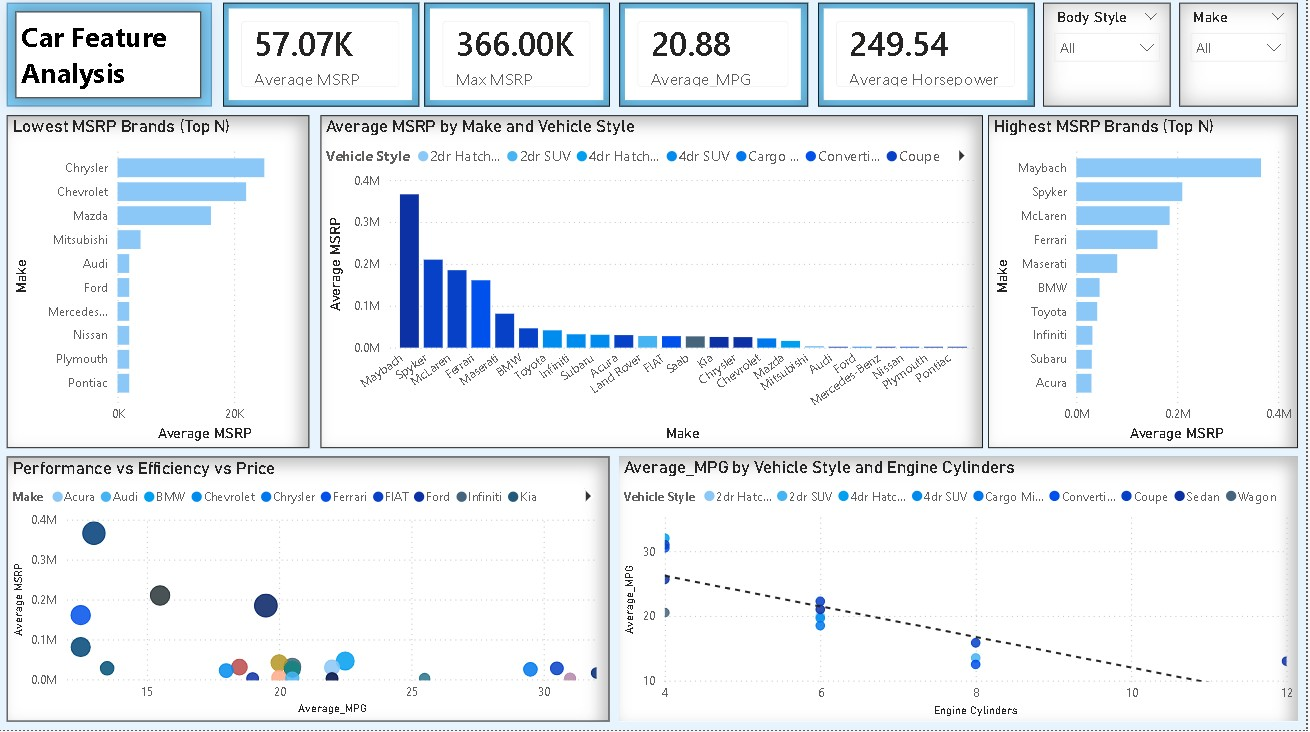

Layout of this report page (visuals, bound fields, positions):
{"tool":"powerbi","page":{"name":"Impact of Car Features","canvas":[1280,720],"ordinal":0},"visuals":[{"type":"slicer","fields":{"Values":["Car_data.Vehicle Style"]},"box":[1022.3,9,125.1,101.4],"z":0},{"type":"slicer","fields":{"Values":["Car_data.Make"]},"box":[1155.3,9,116.1,101.4],"z":1000},{"type":"columnChart","fields":{"Category":["Car_data.Make"],"Y":["Car_data.Average MSRP"],"Series":["Car_data.Vehicle Style"]},"box":[315.5,118.6,648.1,325.3],"z":2000},{"type":"clusteredBarChart","title":"Highest MSRP Brands (Top N)","fields":{"Y":["Car_data.Average MSRP"],"Category":["Car_data.Make"]},"box":[968.5,118.6,303.3,325.3],"z":3000},{"type":"clusteredBarChart","title":"Lowest MSRP Brands (Top N)","fields":{"Y":["Car_data.Average MSRP"],"Category":["Car_data.Make"]},"box":[8.6,118.6,295.9,325.3],"z":4000},{"type":"scatterChart","fields":{"X":["Car_data.Engine Cylinders"],"Y":["Car_data.Average_MPG"],"Series":["Car_data.Vehicle Style"]},"box":[607.7,452.4,664,259.2],"z":5000},{"type":"scatterChart","title":"Performance vs Efficiency vs Price","fields":{"X":["Car_data.Average_MPG"],"Y":["Car_data.Average MSRP"],"Series":["Car_data.Make"],"Size":["Sum(Car_data.Engine HP)"]},"box":[8.6,452.4,589.4,259.2],"z":6000},{"type":"cardVisual","fields":{"Data":["Car_data.Average MSRP"]},"box":[219.8,9,191.6,101.4],"z":7000},{"type":"cardVisual","fields":{"Data":["Car_data.Max MSRP"]},"box":[417,9,181.5,101.4],"z":8000},{"type":"cardVisual","fields":{"Data":["Car_data.Average_MPG"]},"box":[607.5,9,184.8,101.4],"z":9000},{"type":"cardVisual","fields":{"Data":["Car_data.Average Horsepower"]},"box":[802.5,9,211.9,101.4],"z":10000},{"type":"shape","box":[9,9,200.6,101.4],"z":11000},{"type":"textbox","box":[16.9,16.9,181.5,84.5],"z":12000}]}

Visuals, with their boxes in screenshot pixels (x1, y1, x2, y2), scaled from the page's 1280x720 canvas onto the 1310x732 screenshot:
slicer - Car_data.Vehicle Style: pyautogui.locateOnScreen(1046, 9, 1174, 112)
slicer - Car_data.Make: pyautogui.locateOnScreen(1182, 9, 1301, 112)
columnChart - Car_data.Make x Car_data.Average MSRP: pyautogui.locateOnScreen(323, 121, 986, 451)
"Highest MSRP Brands (Top N)" clusteredBarChart: pyautogui.locateOnScreen(991, 121, 1302, 451)
"Lowest MSRP Brands (Top N)" clusteredBarChart: pyautogui.locateOnScreen(9, 121, 312, 451)
scatterChart - Car_data.Engine Cylinders x Car_data.Average_MPG: pyautogui.locateOnScreen(622, 460, 1302, 723)
"Performance vs Efficiency vs Price" scatterChart: pyautogui.locateOnScreen(9, 460, 612, 723)
cardVisual - Car_data.Average MSRP: pyautogui.locateOnScreen(225, 9, 421, 112)
cardVisual - Car_data.Max MSRP: pyautogui.locateOnScreen(427, 9, 613, 112)
cardVisual - Car_data.Average_MPG: pyautogui.locateOnScreen(622, 9, 811, 112)
cardVisual - Car_data.Average Horsepower: pyautogui.locateOnScreen(821, 9, 1038, 112)
shape: pyautogui.locateOnScreen(9, 9, 215, 112)
textbox: pyautogui.locateOnScreen(17, 17, 203, 103)
